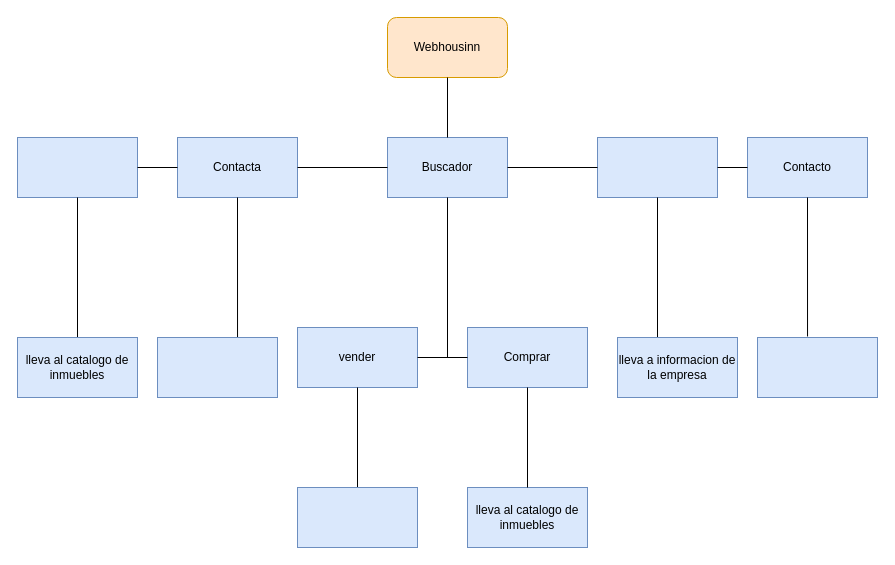
The diagram is 895 pixels wide and 565 high, and some of its shapes have lost their labels. The shapes that lost their labels are listed below. From the top down, each one's box as (x1, y1, x2, y2) in pixels, then its label:
(16, 136, 138, 198): Ventas
(596, 136, 718, 198): Sobre nosotros
(156, 336, 278, 398): lleva a formulario de contacto
(756, 336, 878, 398): lleva a formulario
(296, 486, 418, 548): lleva a un formulario de contacto con el asesor
